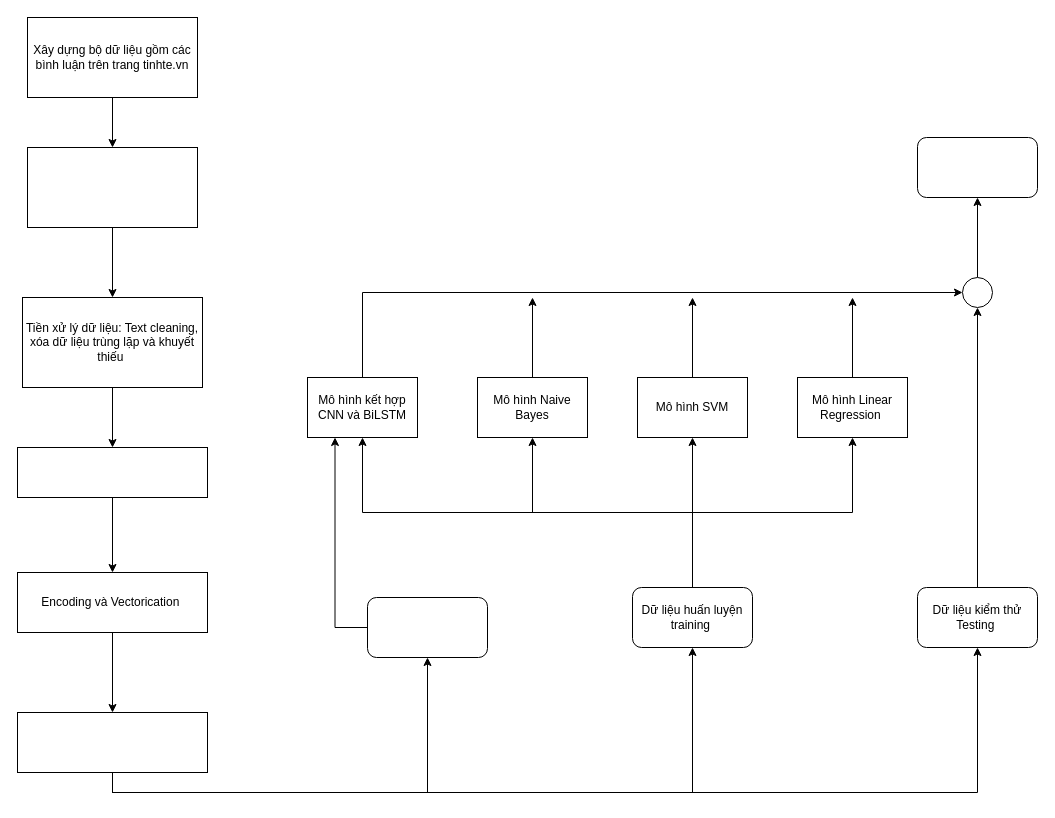
Image size: 1055x818. Some labels were removed from this diagram. The centre of each missing label's shape, as x and y in pixels:
"Chia dữ liệu: tập train, tập val, tập test." goes at pixel 112 742.
"Dữ liệu đánh giá Validation" goes at pixel 427 627.
"Kết quả: Tích cực/ Tiêu cực/ Trung lập" goes at pixel 977 167.
"Text Tokenization" goes at pixel 112 472.
"Thực hiện gán nhãn cảm xúc cho bộ dữ liệu" goes at pixel 112 187.
